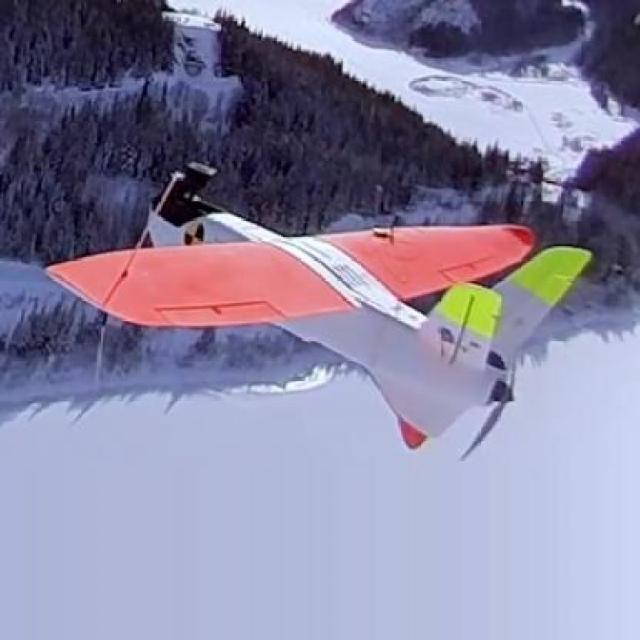iha: (24, 156, 603, 463)
